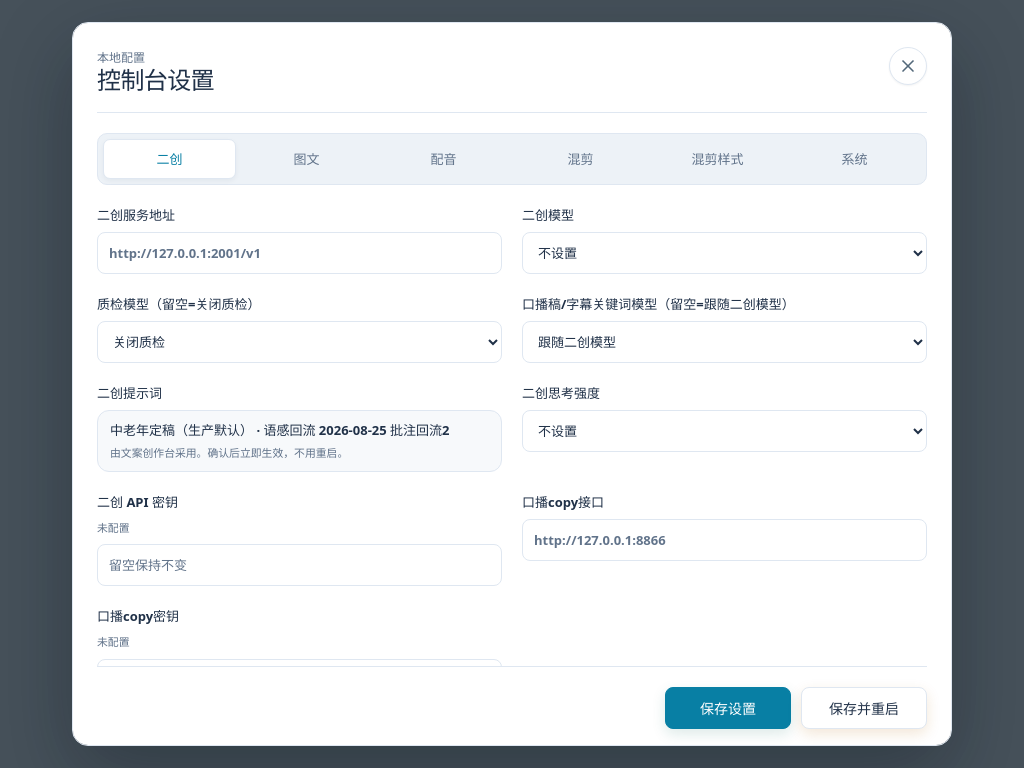
codex CLI leftovers are gone from the system tab
The width and height of the screenshot is (1024, 768).
Click the tab "系统" at (854, 159), box [788, 139, 921, 179]
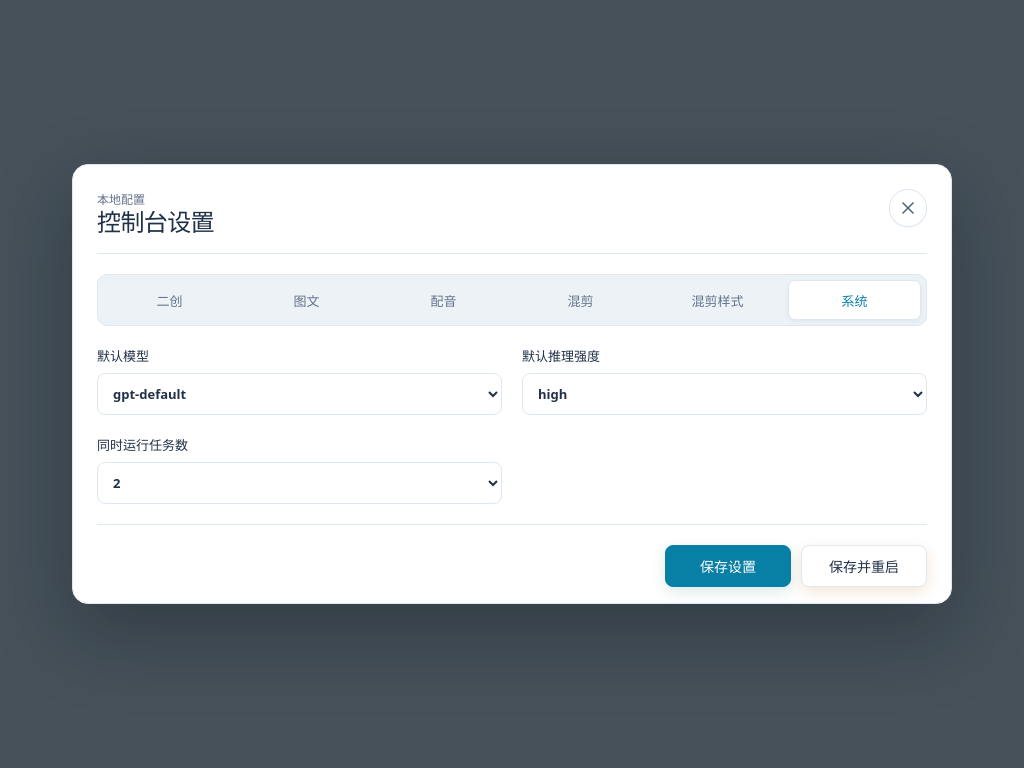
Expected: the text "默认模型" is shown, [97, 346, 502, 415]
Expected: the text "同时运行任务数" is shown, [97, 435, 502, 504]
